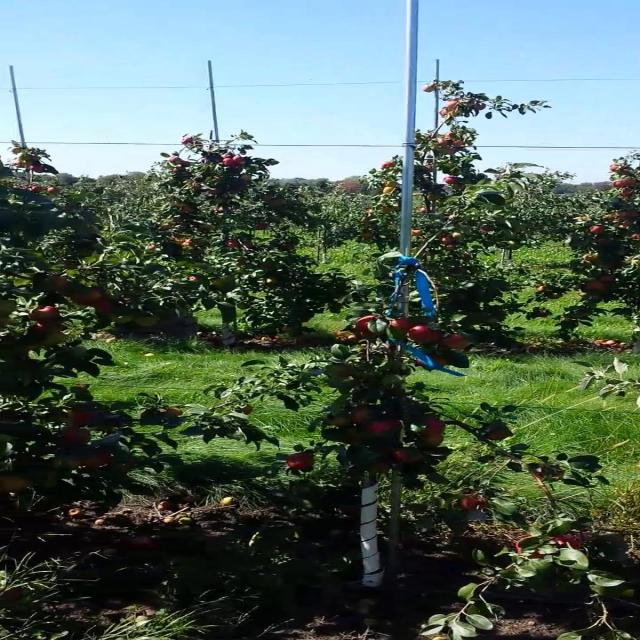apple: (527, 462, 564, 481), (516, 536, 547, 558), (407, 325, 442, 344), (36, 274, 71, 292), (69, 288, 102, 305), (80, 450, 111, 468), (30, 469, 58, 488), (369, 419, 402, 435), (60, 428, 91, 445), (29, 305, 60, 322), (458, 494, 487, 511), (287, 452, 313, 470), (391, 449, 422, 464), (484, 425, 513, 441), (356, 315, 378, 336), (440, 334, 469, 349), (553, 534, 582, 549), (29, 320, 60, 334), (71, 409, 96, 426), (418, 432, 444, 448), (53, 455, 82, 469), (389, 318, 418, 331), (42, 331, 67, 346), (422, 418, 444, 434), (329, 364, 353, 378), (351, 406, 371, 422), (56, 455, 80, 468), (133, 316, 158, 328), (91, 299, 111, 314), (333, 330, 358, 341), (342, 429, 360, 444), (369, 460, 391, 472), (327, 415, 351, 426), (584, 281, 607, 291), (429, 354, 447, 366), (140, 408, 160, 418), (113, 315, 133, 324), (18, 344, 36, 354), (164, 408, 182, 416), (416, 360, 431, 369), (240, 405, 253, 415)
